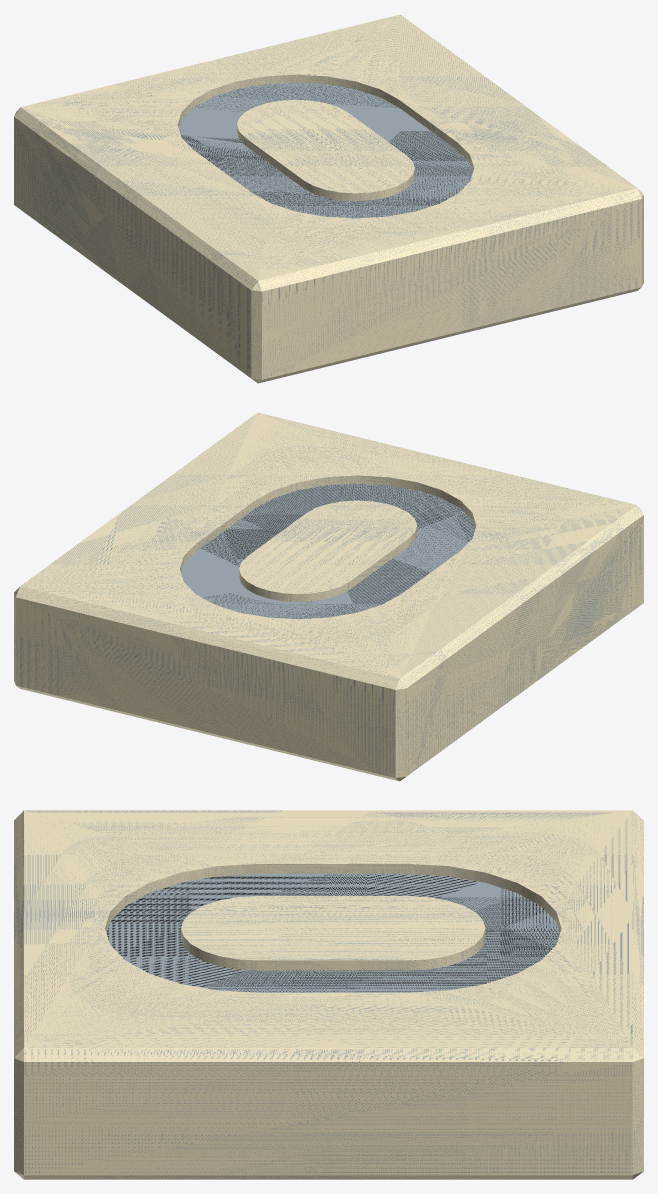
File: Boardgame_Anagram_Tile_O.fbx
The picture shows the model from 3 angles, top to bottom: view 1: azimuth 30°, elevation 25°; view 2: azimuth 150°, elevation 25°; view 3: azimuth 270°, elevation 25°; orthographic projection. The views are drawn at different scales.
Parts seen in each view (by area): view 1: Model; view 2: Model; view 3: Model.
Part boxes in pixels (x1=…): Model: x1=14, y1=14, x2=643, y2=383; Model: x1=14, y1=412, x2=643, y2=781; Model: x1=14, y1=810, x2=643, y2=1179.
Bounding box in the file's own units: 195 × 48.83 × 212.
